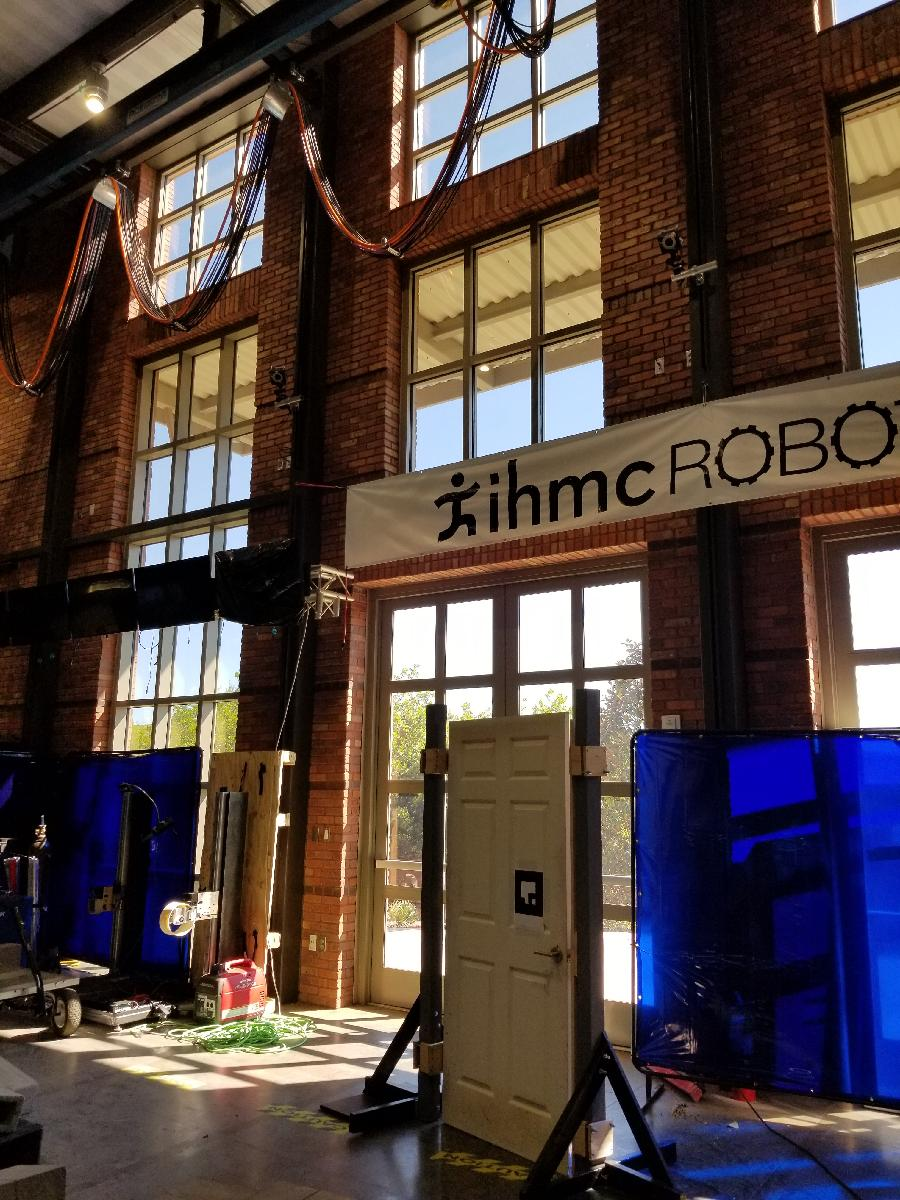door: (441, 708, 574, 1181)
doorHandle: (532, 933, 565, 964)
